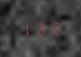one: (18, 21, 31, 37)
three: (33, 20, 46, 36)
two: (47, 19, 60, 35)
